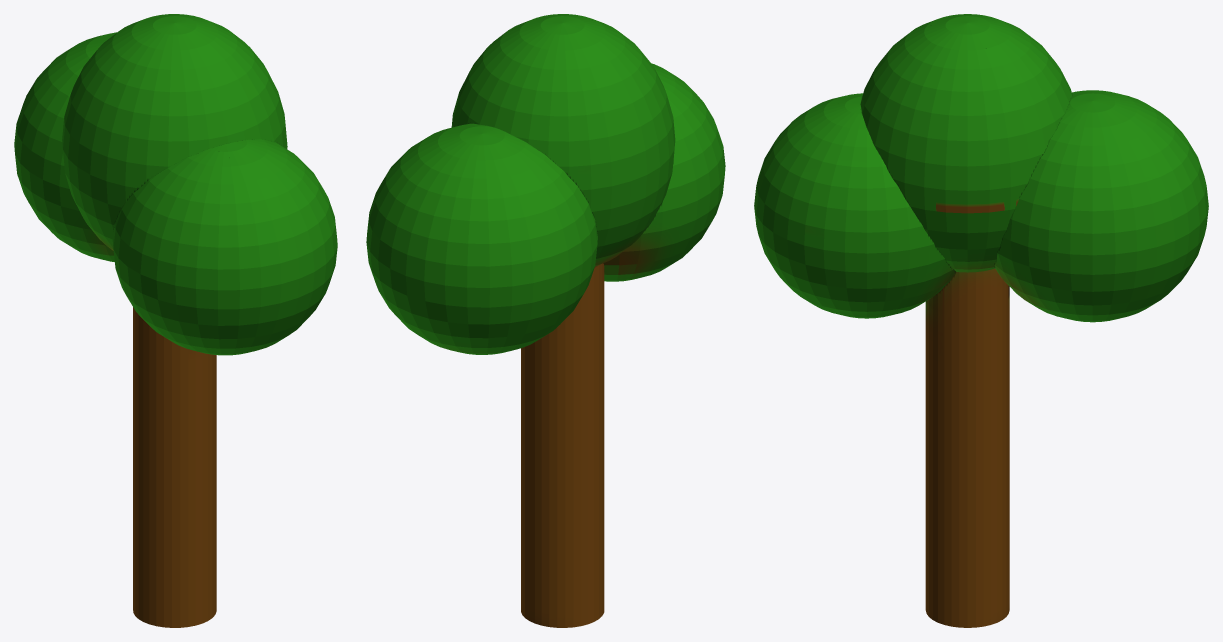
File: bad_tree.glb
The picture shows the model from 3 angles, left to right: view 1: azimuth 30°, elevation 25°; view 2: azimuth 150°, elevation 25°; view 3: azimuth 270°, elevation 25°; orthographic projection.
Parts seen in each view (by area): view 1: Cylinder; view 2: Cylinder; view 3: Cylinder.
Part boxes in pixels (bbox=[...]): Cylinder: bbox=[14, 14, 337, 627]; Cylinder: bbox=[366, 14, 725, 627]; Cylinder: bbox=[754, 14, 1208, 627].
Size of the model in its own units: 5.96 by 15.47 by 10.86.
1 material, 1 textured.
